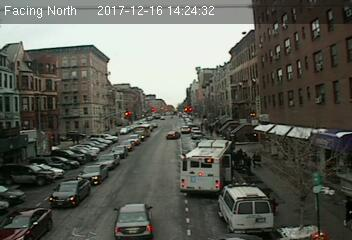bus: (179, 139, 240, 195)
car: (114, 200, 154, 240), (48, 179, 92, 208), (78, 163, 110, 184), (97, 153, 121, 169), (110, 145, 128, 158), (166, 130, 180, 140), (180, 125, 190, 134)
police: (217, 182, 274, 235)
